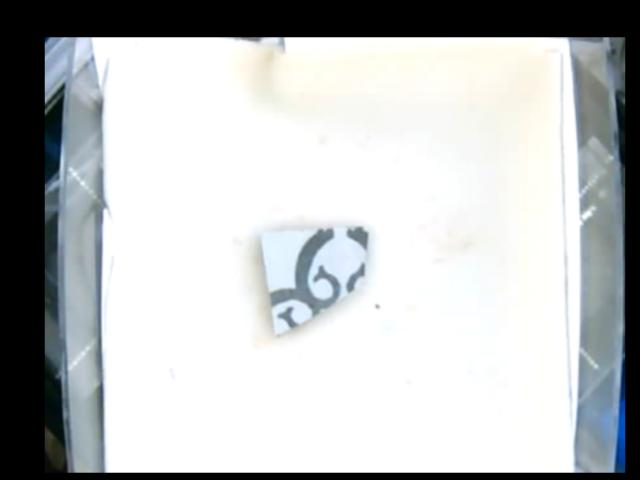China: (260, 225, 366, 335)
